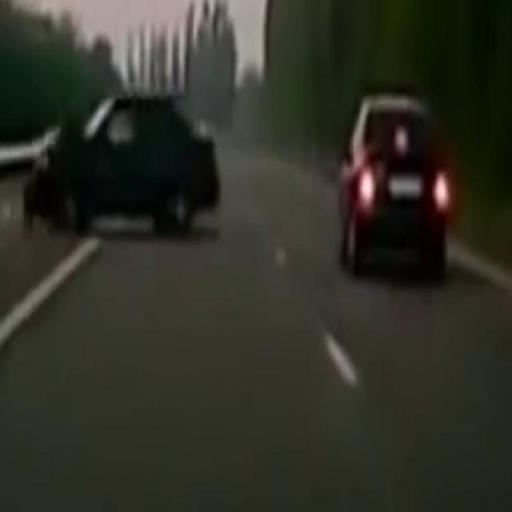小汽车: (26, 89, 221, 234), (336, 92, 456, 282)
